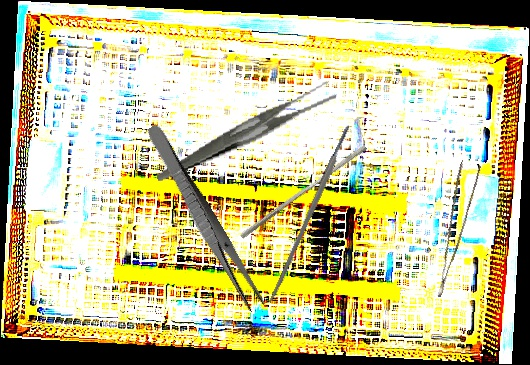Dressing Forceps: (140, 122, 268, 314), (146, 79, 345, 182)
Pusher: (239, 140, 368, 244)
Scalpel Handle: (266, 123, 354, 305)
Tissue Forceps: (415, 159, 488, 298)
